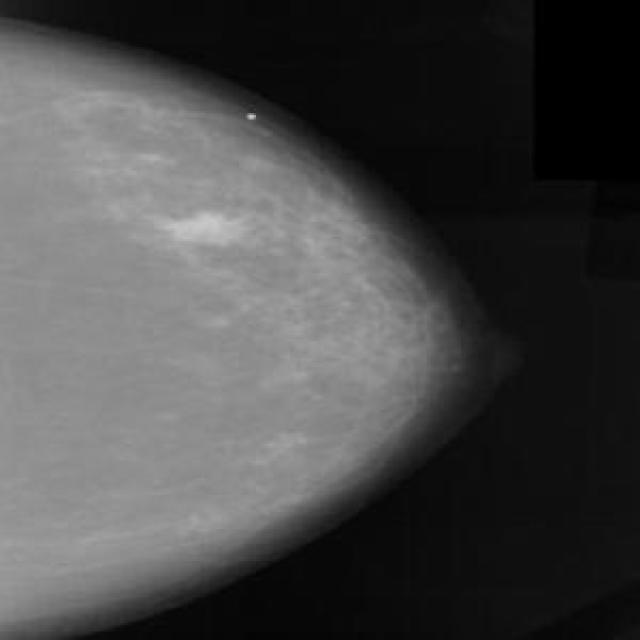tumor: (165, 188, 270, 262)
